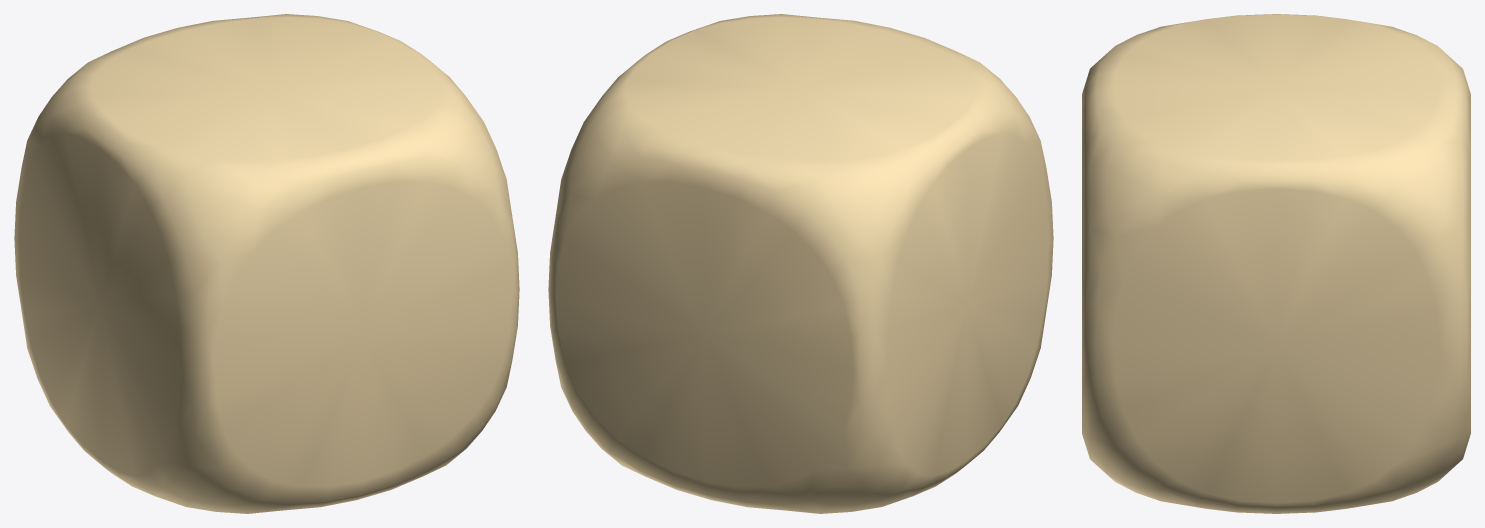
File: shaizi.FBX
The picture shows the model from 3 angles, left to right: view 1: azimuth 30°, elevation 25°; view 2: azimuth 150°, elevation 25°; view 3: azimuth 270°, elevation 25°; orthographic projection.
Visible parts, largest first — view 1: shazi001; view 2: shazi001; view 3: shazi001.
Boxes of the visible parts, left/top/right/bottom form: shazi001: left=14, top=14, right=519, bottom=513; shazi001: left=548, top=14, right=1053, bottom=513; shazi001: left=1082, top=14, right=1470, bottom=513.
Size of the model in its own units: 20.63 by 20.63 by 20.63.
